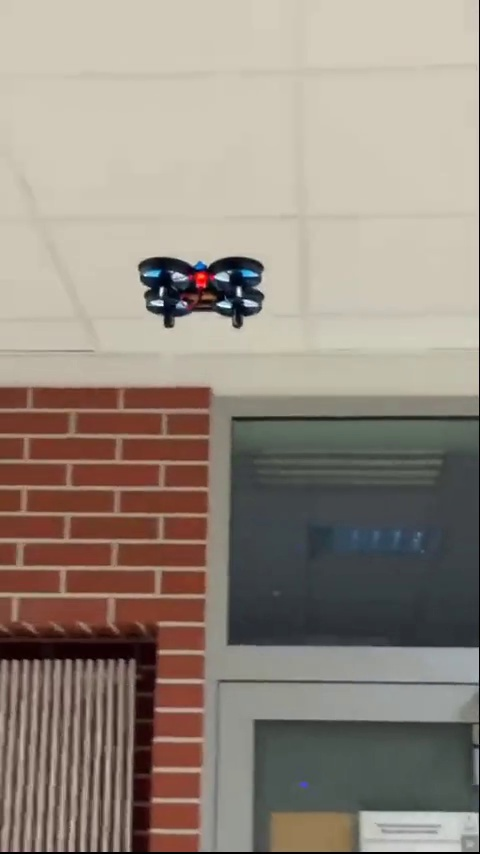drone: (131, 256, 277, 330)
